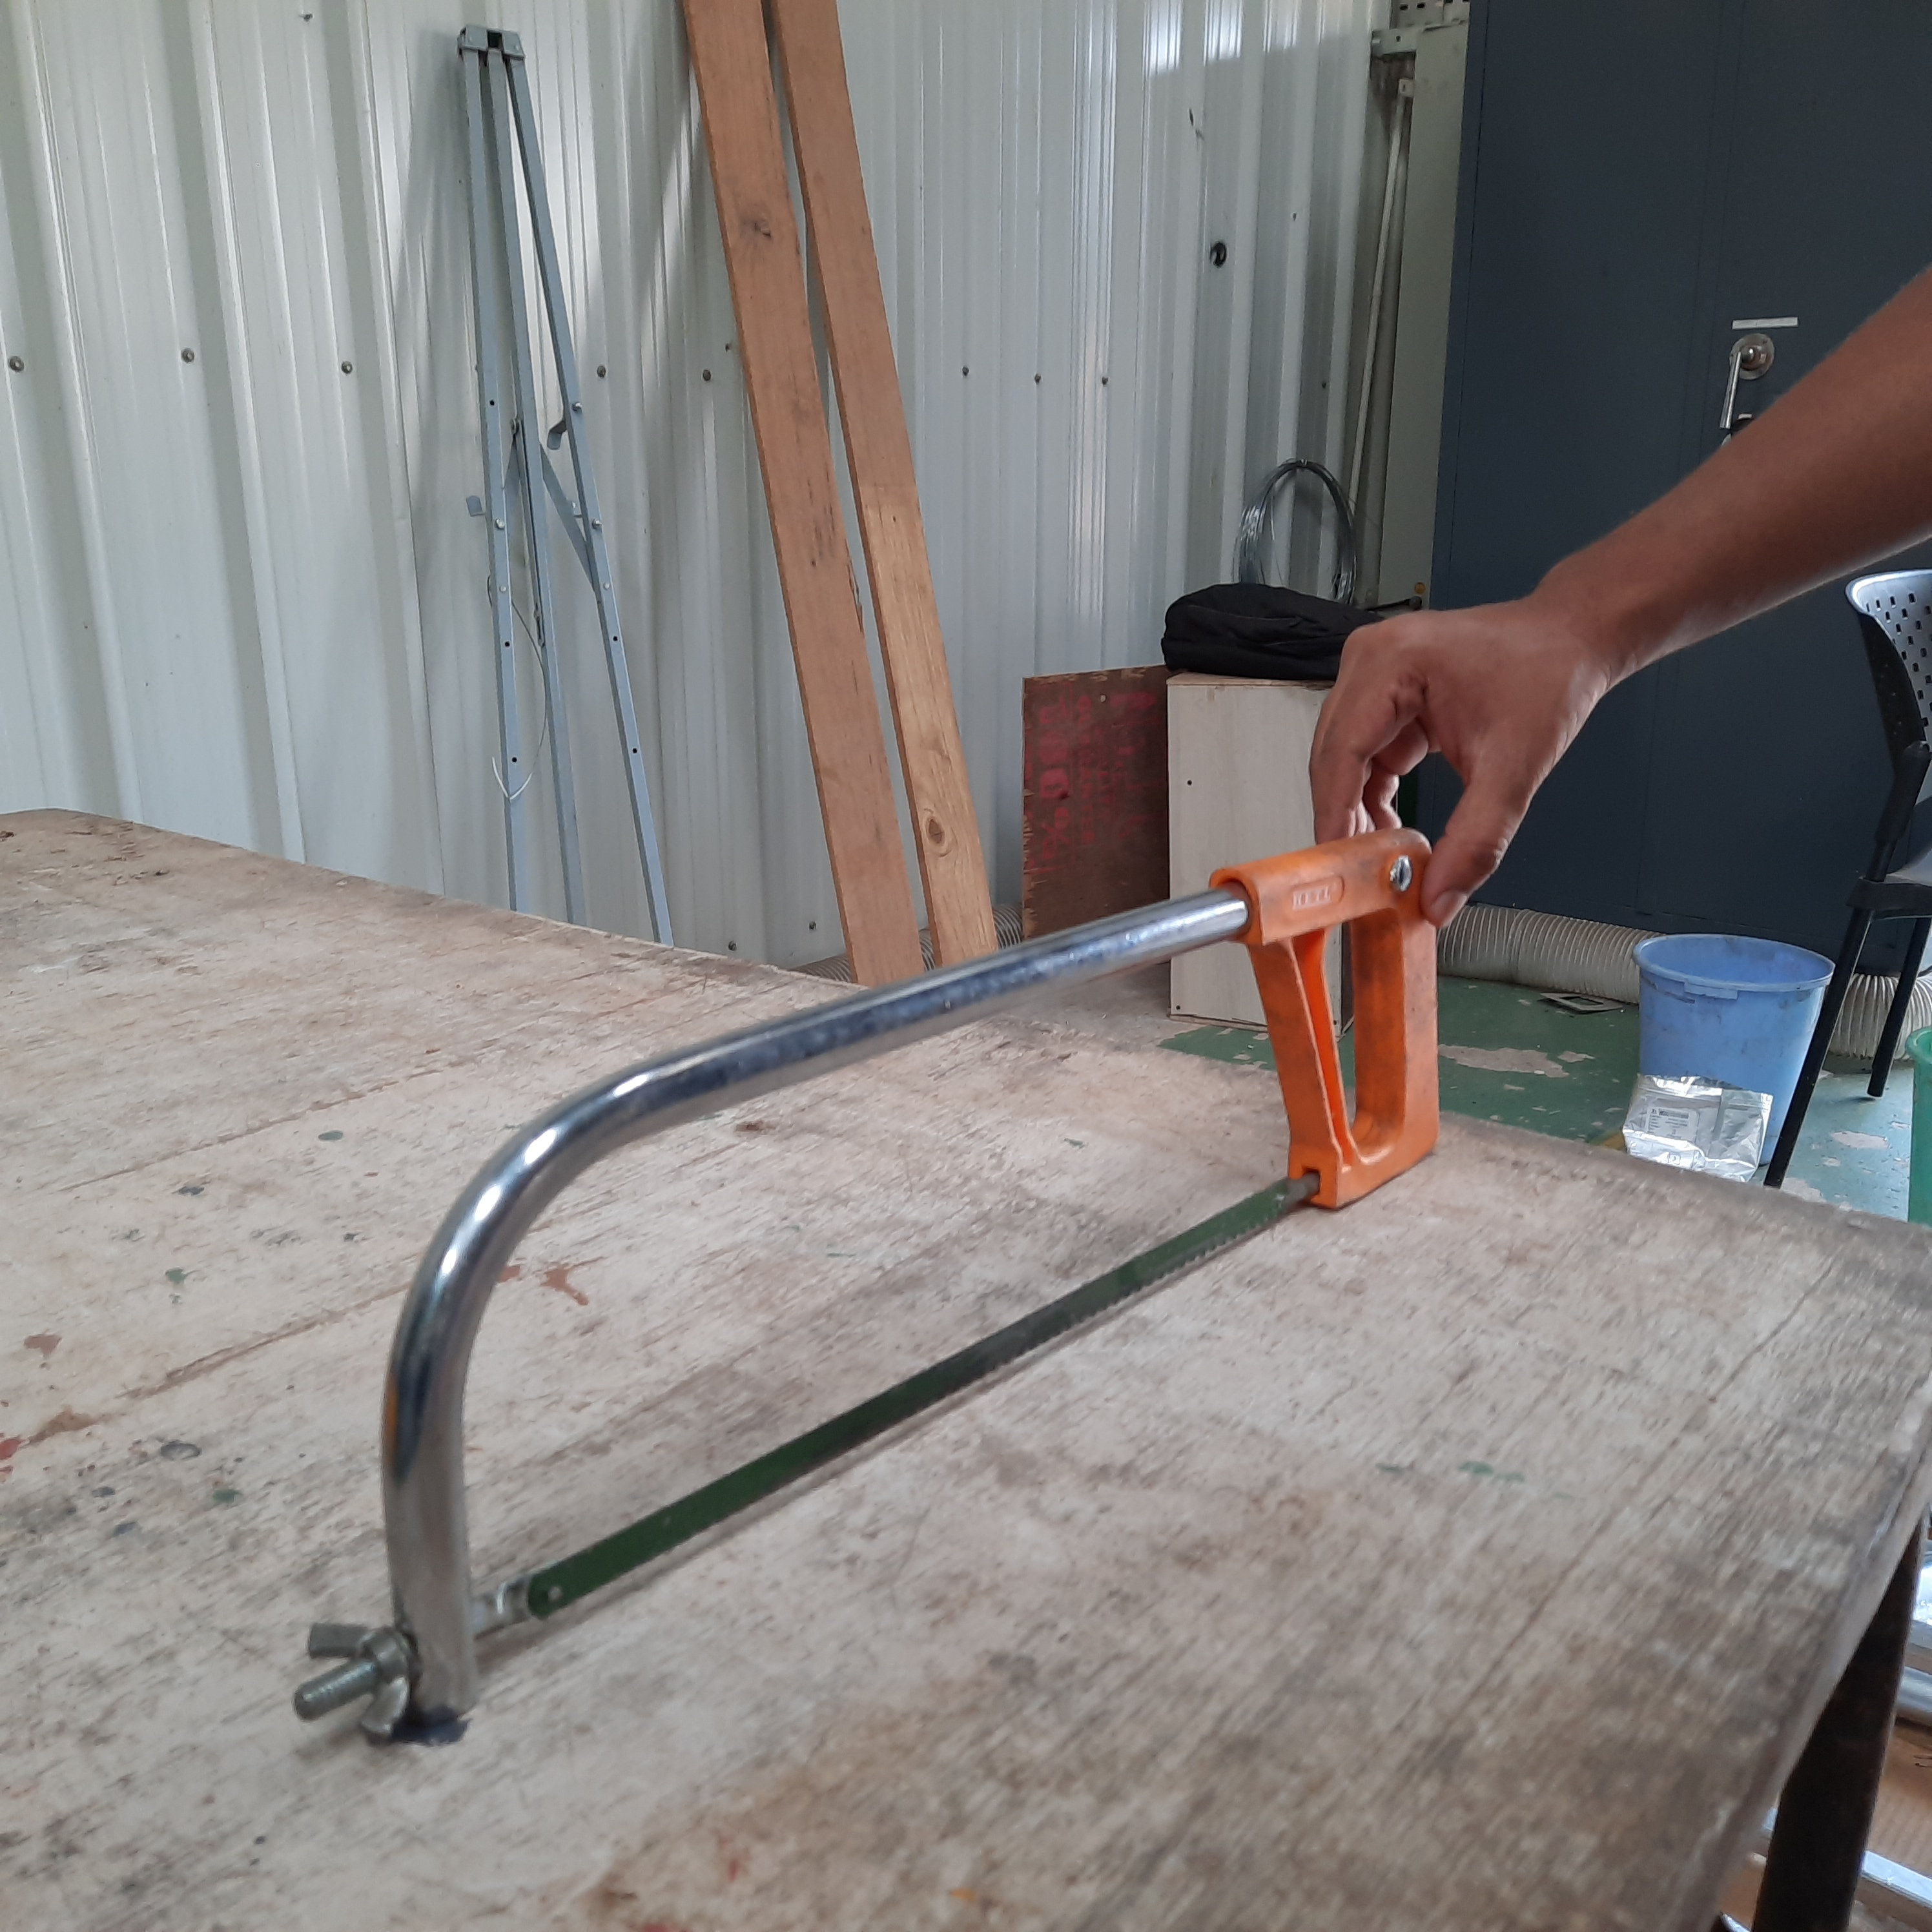Hexaframe: (188, 810, 1484, 1803)
